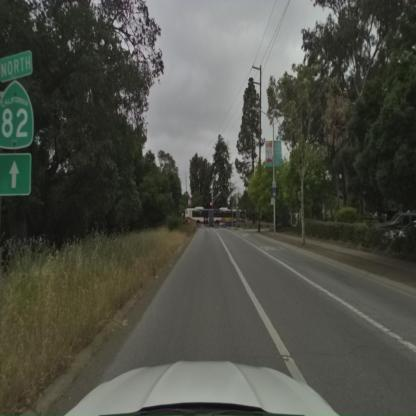car: (377, 212, 415, 235)
sign: (0, 50, 38, 206)
